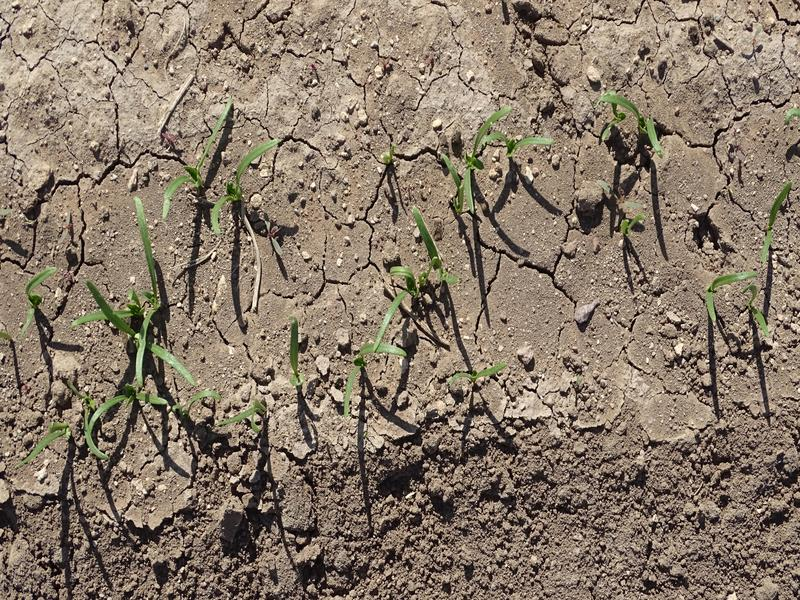Espinaca: (23, 283, 269, 452), (154, 104, 279, 227), (376, 213, 482, 339), (442, 106, 553, 212), (704, 264, 780, 342), (343, 340, 405, 424), (598, 94, 667, 164), (283, 320, 307, 387)
